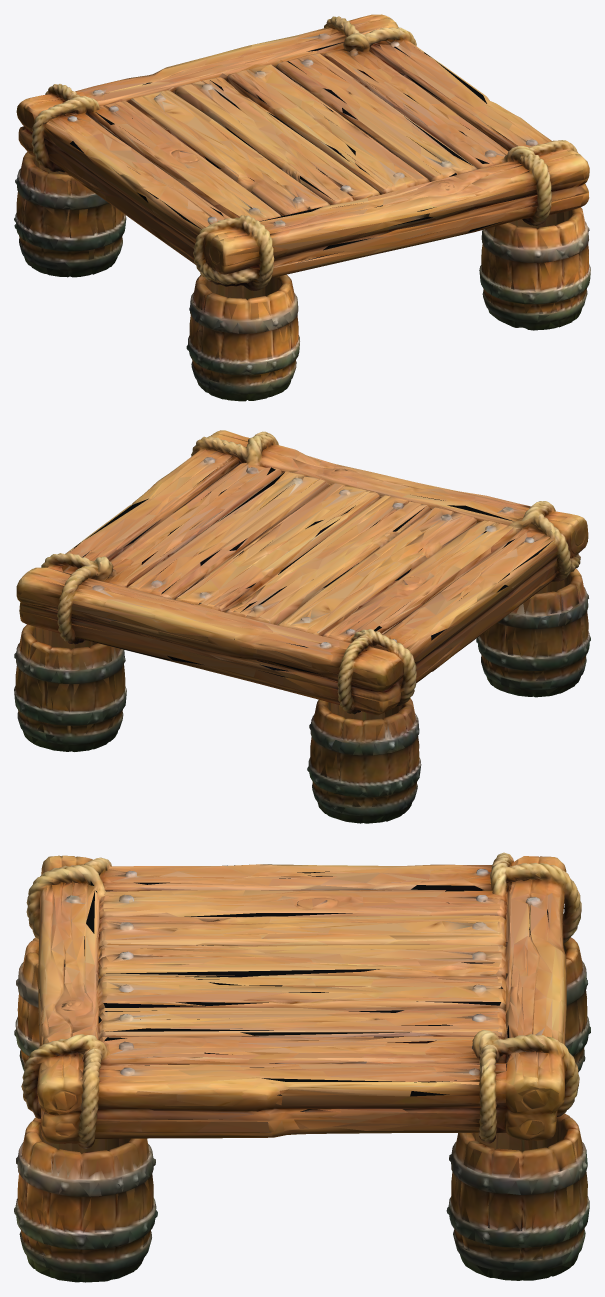
Rendered from plat_kare.glb.
3 views of the same model, one above another, from view 1: azimuth 30°, elevation 25°; view 2: azimuth 150°, elevation 25°; view 3: azimuth 270°, elevation 25° (orthographic). The views are drawn at different scales.
Visible parts, largest first — view 1: tripo_node_a09cf8aa-e59a-4f49-b302-591fcb965b26; view 2: tripo_node_a09cf8aa-e59a-4f49-b302-591fcb965b26; view 3: tripo_node_a09cf8aa-e59a-4f49-b302-591fcb965b26.
Part boxes in pixels (box(x1,y1,x2,y2)): tripo_node_a09cf8aa-e59a-4f49-b302-591fcb965b26: box(14, 14, 590, 401); tripo_node_a09cf8aa-e59a-4f49-b302-591fcb965b26: box(14, 430, 590, 823); tripo_node_a09cf8aa-e59a-4f49-b302-591fcb965b26: box(14, 852, 590, 1282).
Size of the model in its own units: 0.9783 by 0.4035 by 0.9791.
Materials: 1 (1 with a texture image).
